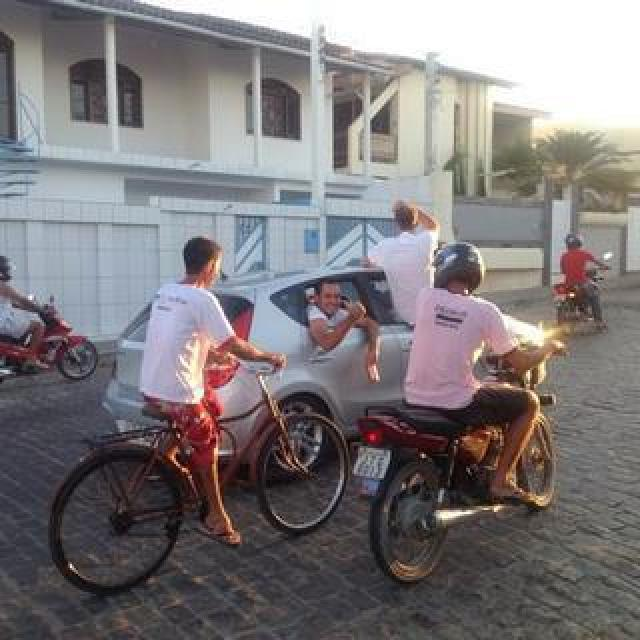Emergency Vehicles-Bike: (346, 360, 564, 584), (0, 314, 100, 394), (552, 272, 608, 334)
MC-Bike: (138, 232, 286, 552), (402, 240, 568, 504), (366, 198, 438, 328), (306, 278, 382, 384), (558, 232, 610, 326)
Person: (46, 350, 356, 588)
